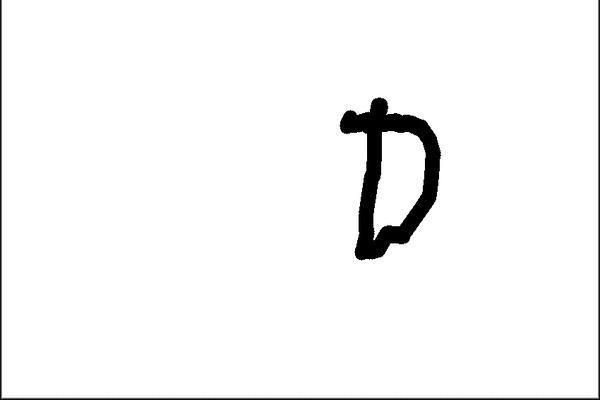D: (335, 92, 444, 263)
